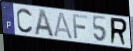5: (91, 15, 108, 44)
A: (34, 9, 56, 38), (53, 11, 74, 40)
C: (16, 7, 34, 35)
F: (72, 13, 90, 40)
R: (109, 16, 128, 47)
